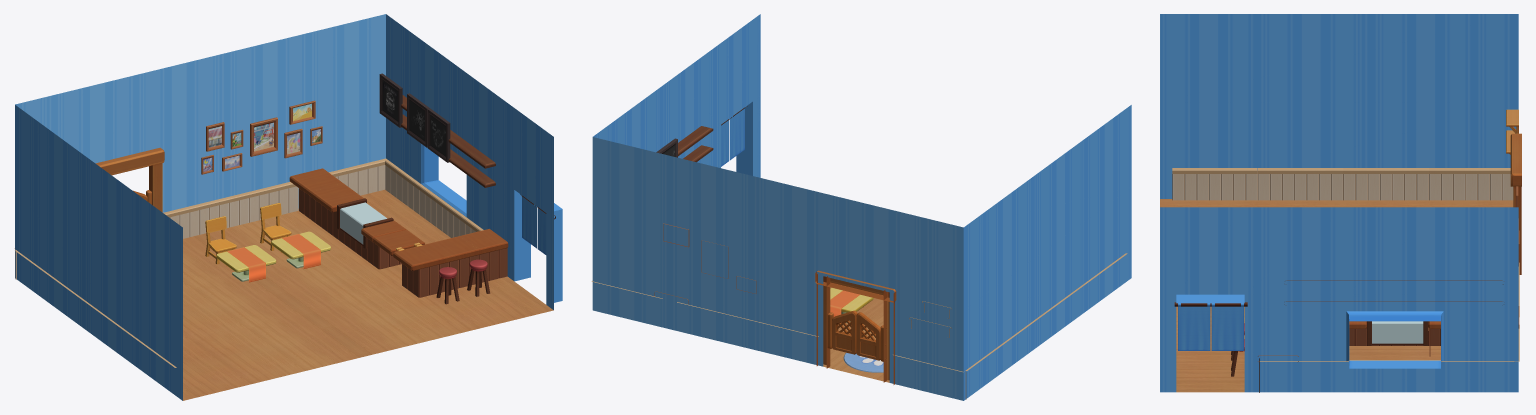
Rendered from Restaurant_dining area.FBX.
3 views of the same model, side by side, from view 1: azimuth 30°, elevation 25°; view 2: azimuth 150°, elevation 25°; view 3: azimuth 270°, elevation 25° (orthographic). The views are drawn at different scales.
Parts seen in each view (by area): view 1: polySurface3331_group36, group36_polySurface3336, group36_polySurface3730, polySurface3816, group36_polySurface3729, polySurface3820, polySurface3969, Object001, polySurface3801_group36, group36_polySurface3743; view 2: polySurface3331_group36, group36_polySurface3730, group36_polySurface3729, polySurface3816, polySurface3803, group36_polySurface3336, polySurface3820, Object001, polySurface3969; view 3: group36_polySurface3730, group36_polySurface3729, polySurface3820, group36_polySurface3336, polySurface3816, Object001, polySurface3801_group36.
Boxes of the visible parts, box(x1,y1,x2,y2) form: polySurface3331_group36: box(15, 14, 385, 212); group36_polySurface3336: box(183, 189, 553, 400); group36_polySurface3730: box(15, 105, 182, 400); polySurface3816: box(14, 73, 562, 302); group36_polySurface3729: box(386, 14, 553, 309); polySurface3820: box(15, 160, 555, 367); polySurface3969: box(205, 203, 330, 282); Object001: box(522, 196, 546, 254); polySurface3801_group36: box(340, 202, 386, 244); group36_polySurface3743: box(373, 229, 424, 255); polySurface3331_group36: box(592, 137, 963, 400); group36_polySurface3730: box(963, 105, 1131, 400); group36_polySurface3729: box(593, 14, 760, 177); polySurface3816: box(591, 101, 966, 399); polySurface3803: box(827, 310, 886, 361); group36_polySurface3336: box(823, 287, 889, 382); polySurface3820: box(654, 106, 1127, 372); Object001: box(721, 108, 744, 166); polySurface3969: box(830, 288, 873, 323); group36_polySurface3730: box(1160, 14, 1518, 198); group36_polySurface3729: box(1160, 207, 1518, 392); polySurface3820: box(1172, 168, 1519, 376); group36_polySurface3336: box(1160, 199, 1513, 392); polySurface3816: box(1176, 109, 1521, 392); Object001: box(1178, 306, 1243, 350); polySurface3801_group36: box(1372, 321, 1423, 343).
Size of the model in its own units: 306 by 130 by 231.
